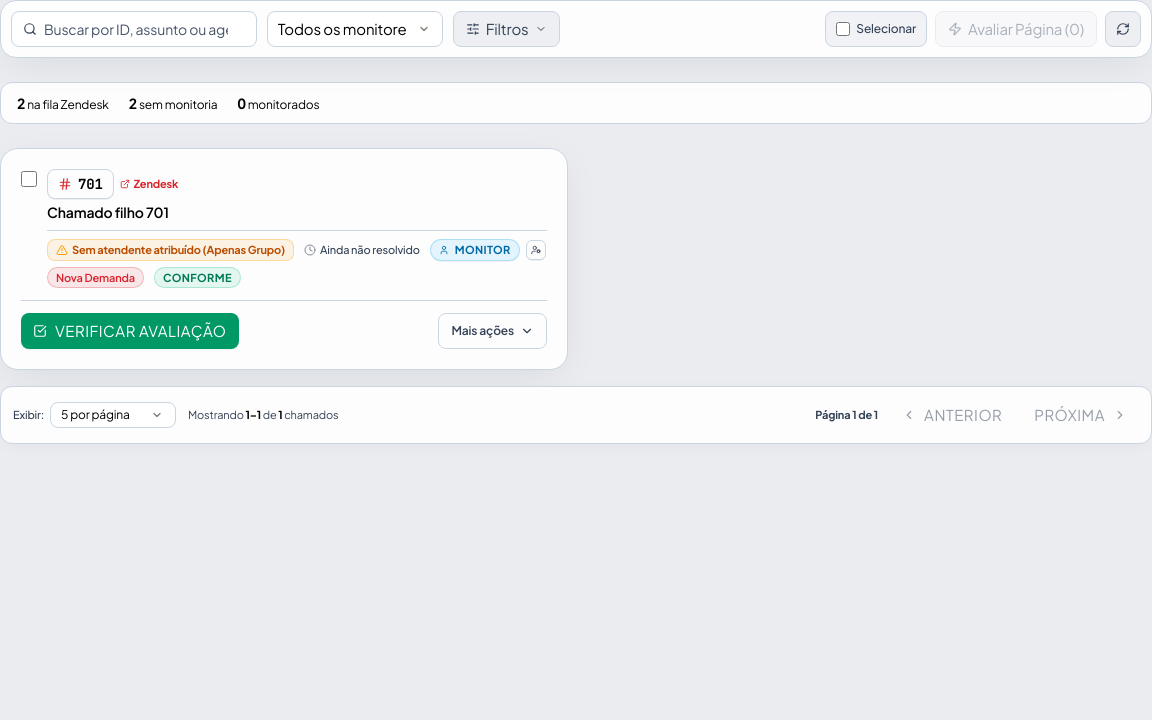
Test: IA de chamados filhos › permite reavaliar o parecer diretamente no card em filhos
Click the button "Mais ações".
click(493, 331)  # box [438,313,547,349]
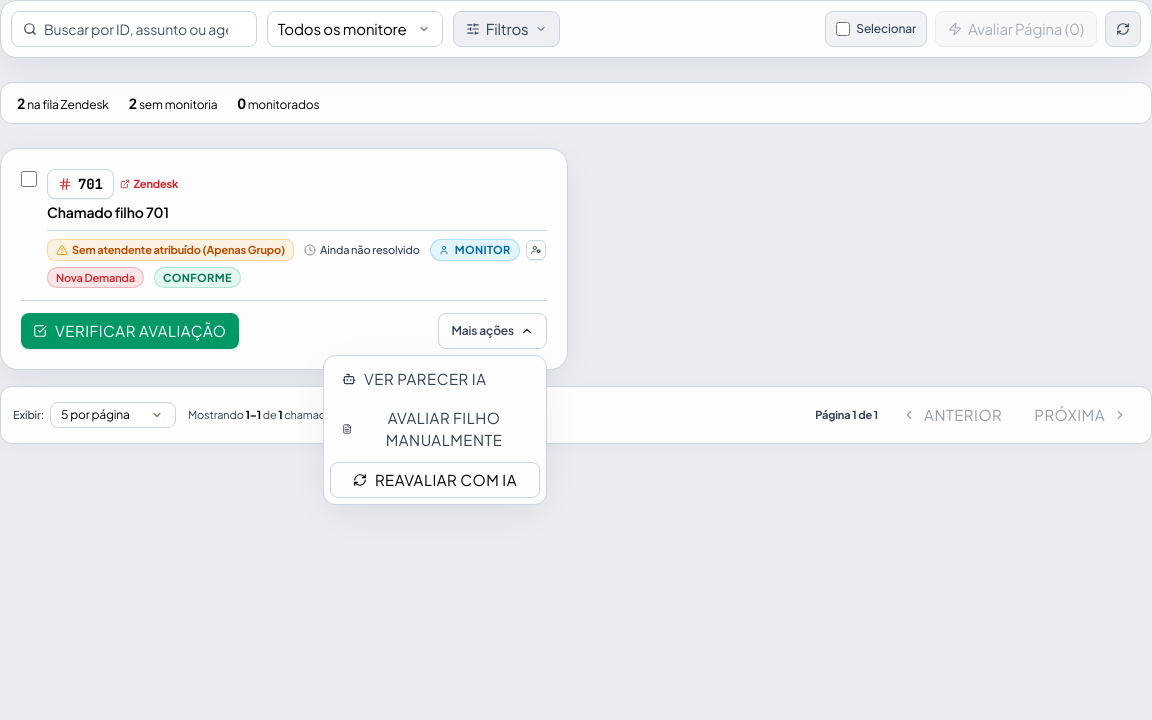
Click the button "Reavaliar com IA".
click(435, 480)  # box [330,462,540,498]
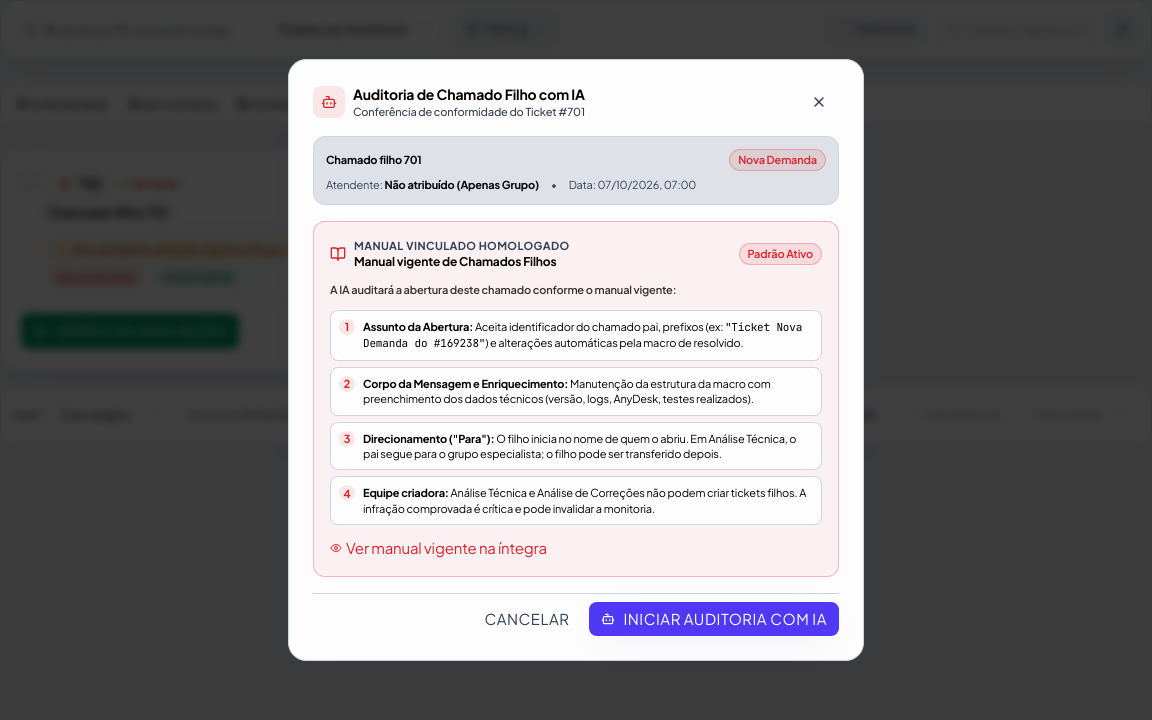
Click the button "Iniciar Auditoria com IA".
click(714, 619)  # box [589,602,839,636]
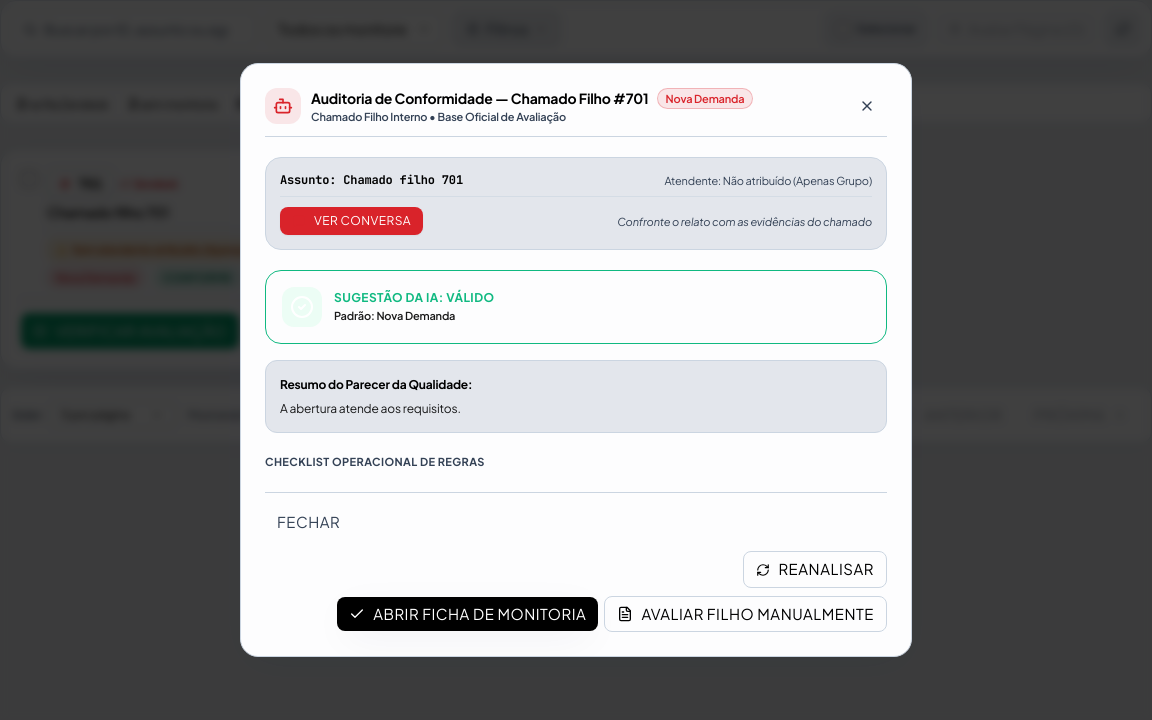
Expected: the button "Reanalisar" is enabled, [744,551,887,588]
